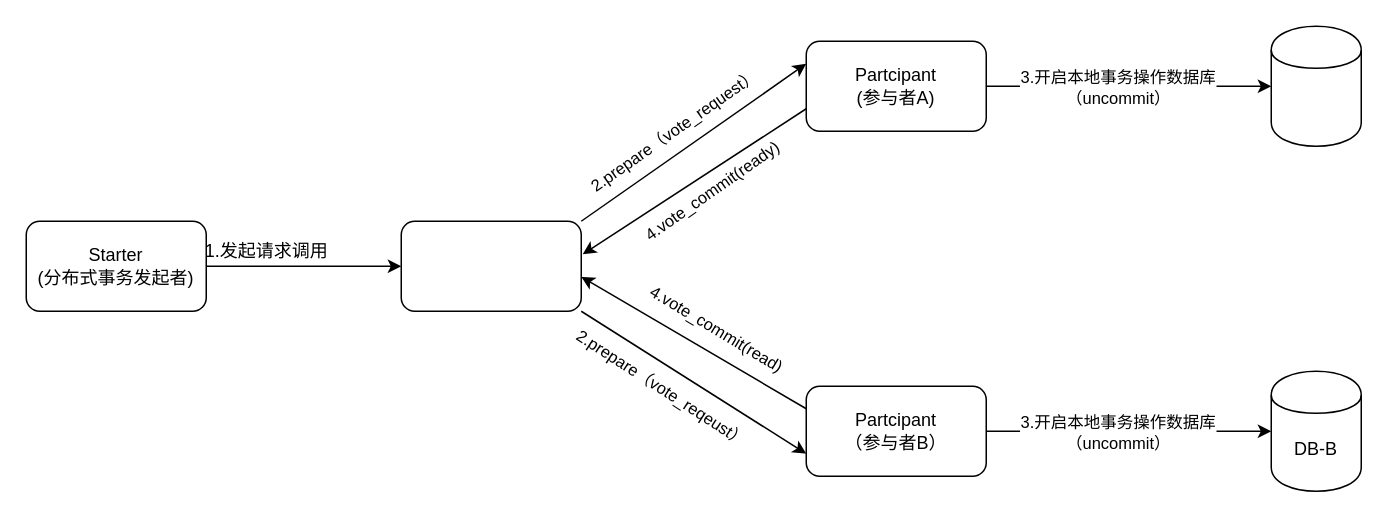
This 1388x518 diagram has some shape labels left out. Each missing label, with the centre of its shape:
Coordinator （协调者） init: the point at 490,265
DB-A: the point at 1315,85
